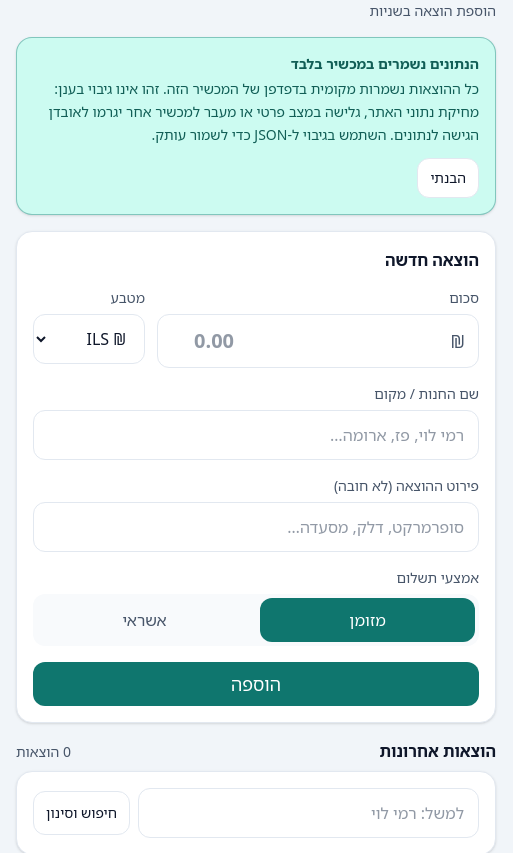
Test: App › לא שומר ללא שם חנות
The width and height of the screenshot is (513, 853).
Type "40" into the field labelled "סכום".
click(318, 341); type("40")  # box x1=157 y1=314 x2=479 y2=368
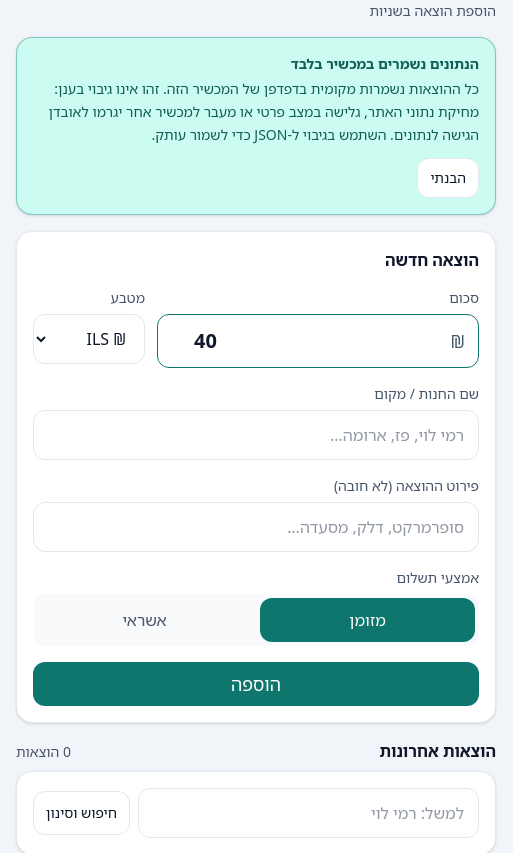
Type "בלי חנות" into the field labelled "פירוט ההוצאה (לא חובה)".
click(256, 527); type("בלי חנות")  # box x1=33 y1=502 x2=479 y2=552
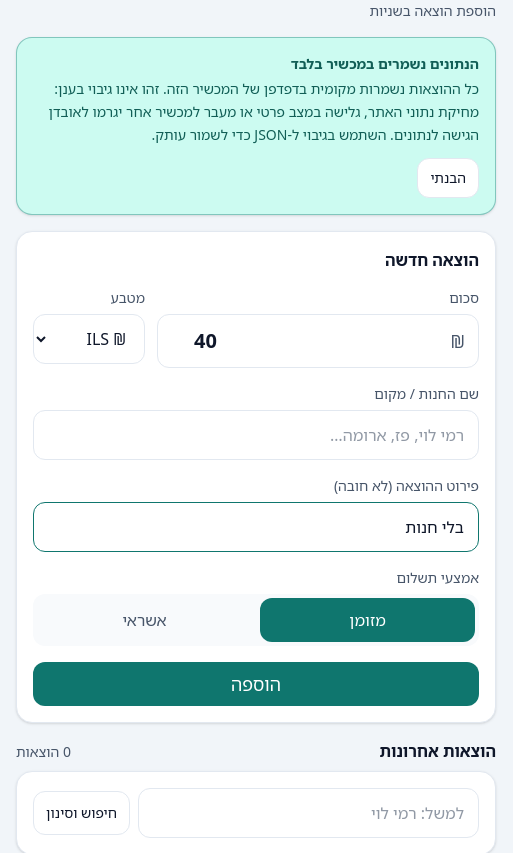
Click the button "הוספה".
click(256, 684)  # box x1=33 y1=662 x2=479 y2=706
(page scrolled)
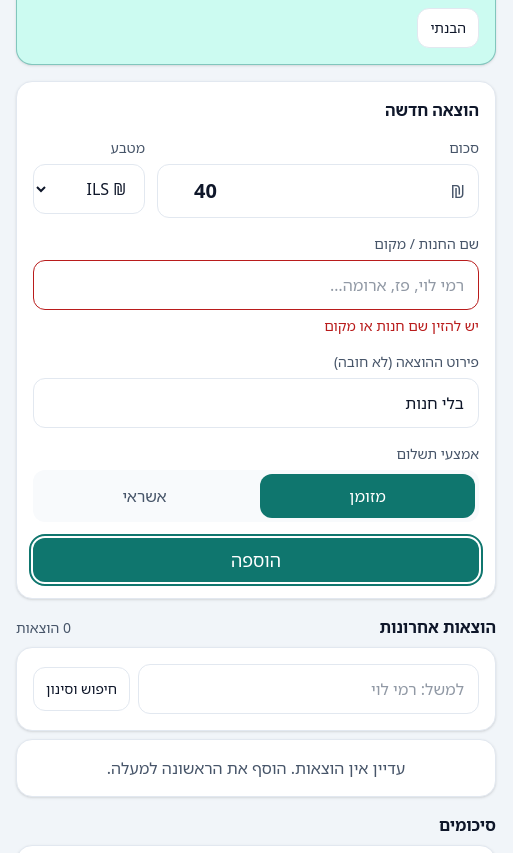
Expected: the text "עדיין אין הוצאות. הוסף את הראשונה למעלה." is shown, x1=16 y1=739 x2=496 y2=797
Expected: the text "יש להזין שם חנות או מקום" is shown, x1=324 y1=316 x2=479 y2=335
